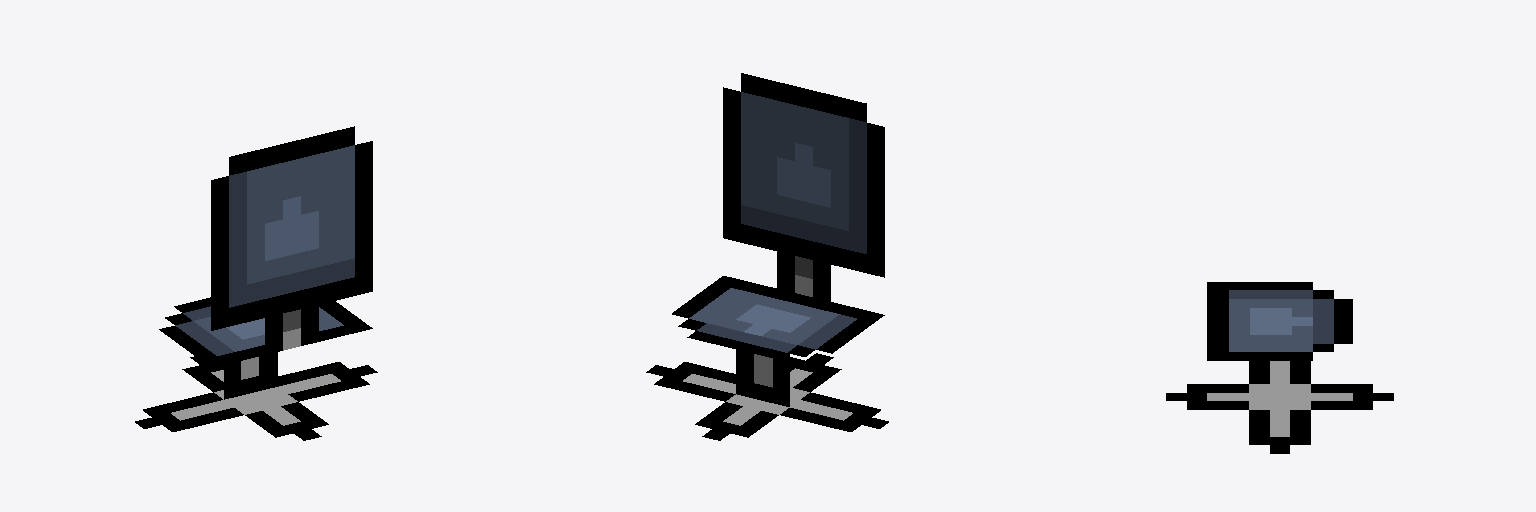
3 views of the same model, side by side, from view 1: azimuth 30°, elevation 25°; view 2: azimuth 150°, elevation 25°; view 3: azimuth 270°, elevation 25° (orthographic).
Visible parts, largest first — view 1: Plane 2, Plane 7, Plane 4, Plane 6; view 2: Plane 2, Plane 4, Plane 7, Plane 6; view 3: Plane 4, Plane 7.
Part boxes in pixels (left/top/right/bottom): Plane 2: left=211, top=126, right=372, bottom=354; Plane 7: left=135, top=356, right=377, bottom=440; Plane 4: left=159, top=297, right=372, bottom=367; Plane 6: left=224, top=352, right=277, bottom=399; Plane 2: left=723, top=73, right=884, bottom=301; Plane 4: left=672, top=276, right=884, bottom=359; Plane 7: left=646, top=353, right=888, bottom=440; Plane 6: left=736, top=350, right=789, bottom=406; Plane 4: left=1207, top=282, right=1352, bottom=360; Plane 7: left=1166, top=361, right=1393, bottom=453.
Size of the model in its own units: 13 by 15 by 11.
1 materials, 1 textured.